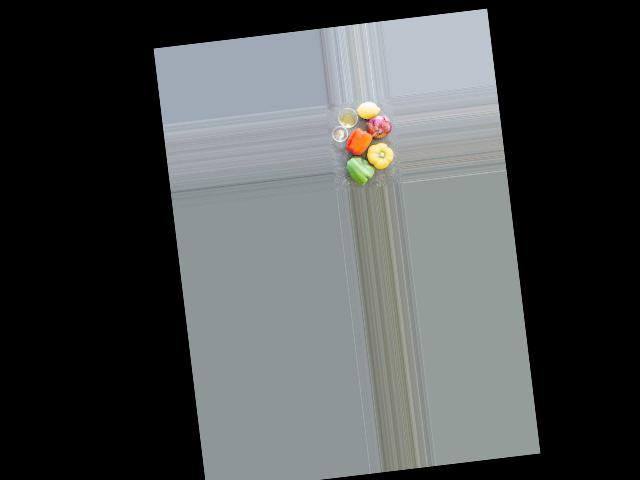bell_pepper: (343, 126, 375, 156)
